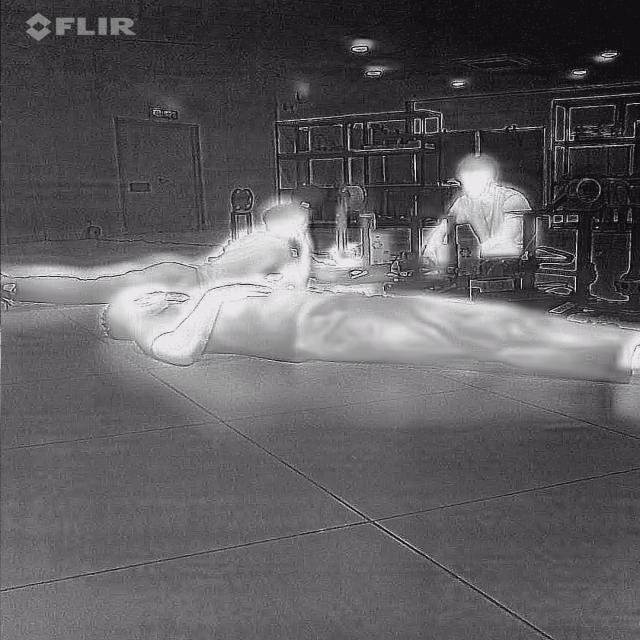Victim: (92, 274, 640, 386), (1, 190, 329, 306), (430, 145, 554, 276)
